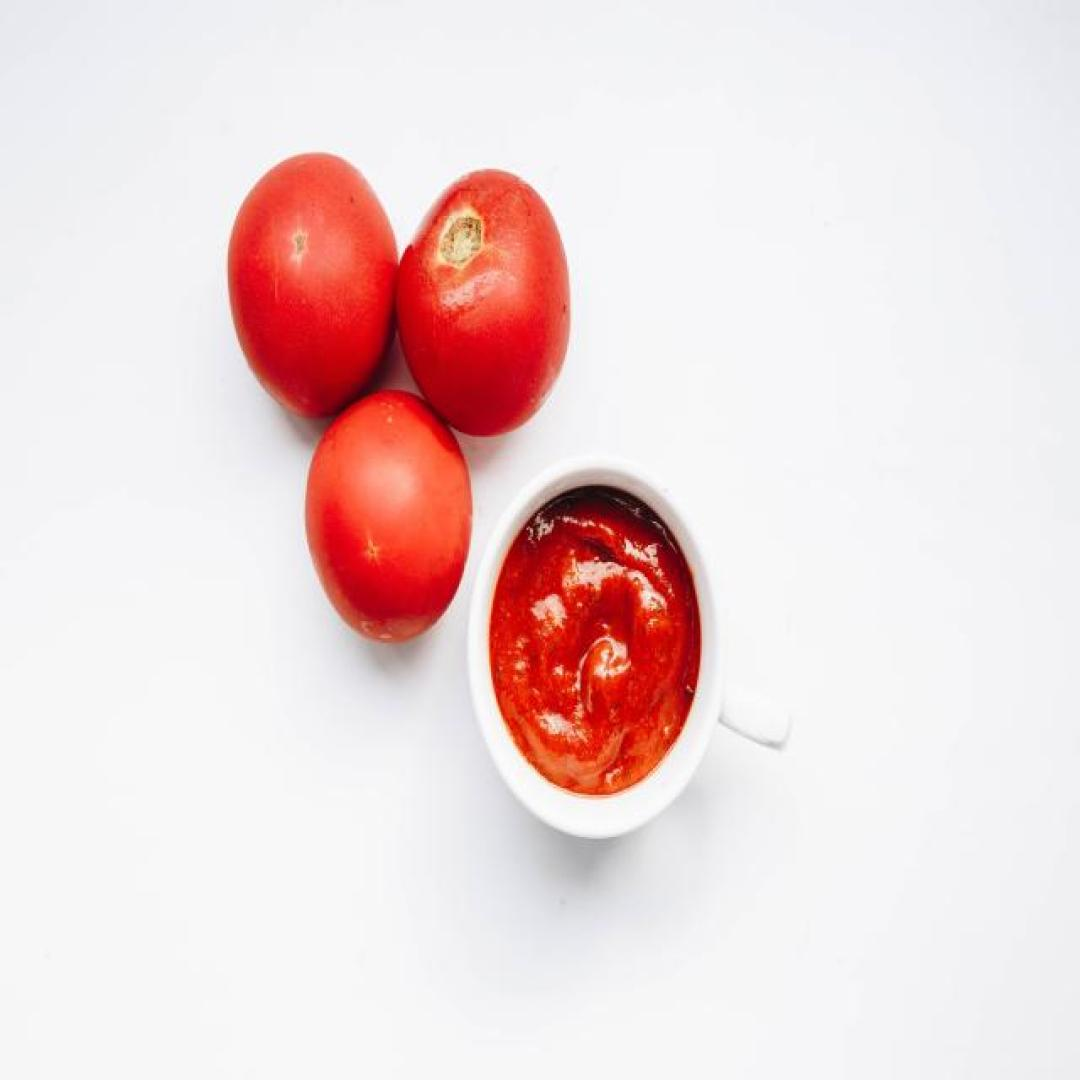matang: (393, 167, 572, 439), (224, 152, 398, 417), (306, 388, 474, 645)
